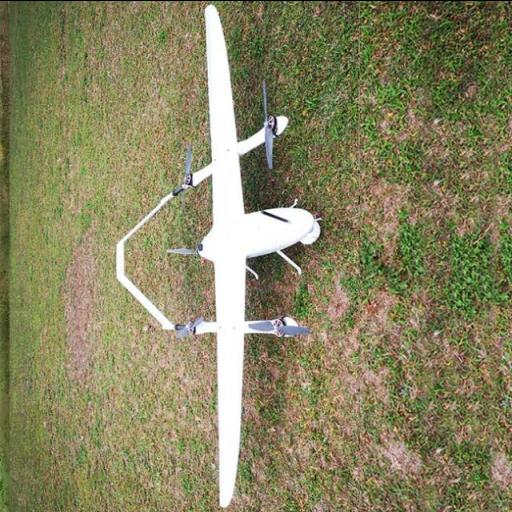uav: (114, 0, 320, 507)
